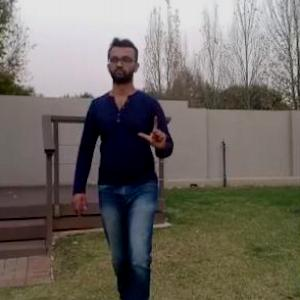land_hand: (134, 109, 174, 151)
